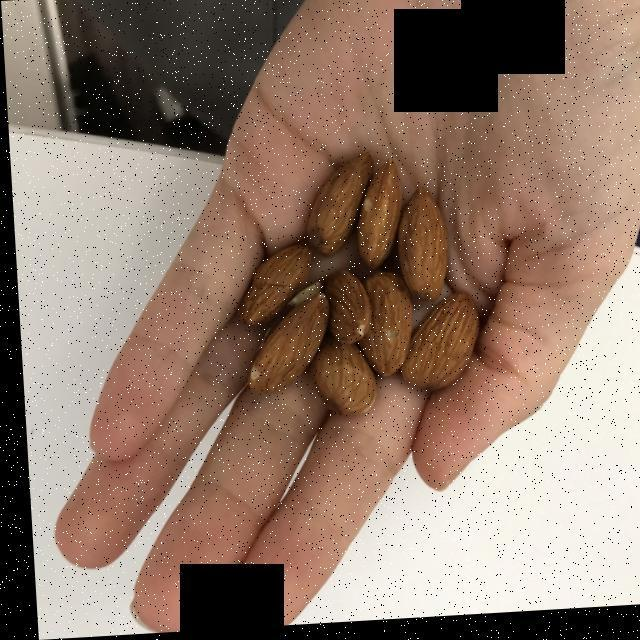almonds: (241, 168, 468, 412)
